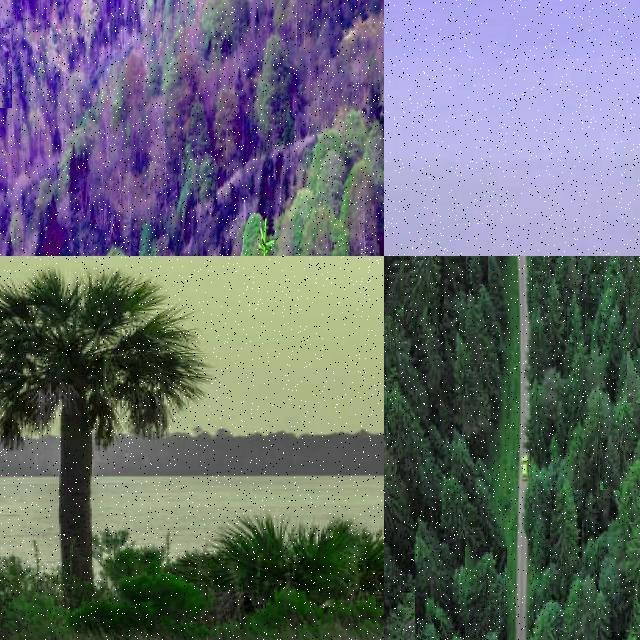tree: (0, 256, 216, 608), (0, 0, 80, 256), (434, 475, 498, 559), (255, 26, 293, 142), (465, 547, 507, 640), (180, 91, 214, 205), (550, 580, 610, 640), (452, 336, 488, 434), (412, 524, 452, 604), (404, 256, 444, 324), (550, 490, 582, 574), (579, 528, 621, 592), (214, 82, 242, 176), (418, 256, 458, 320), (384, 304, 410, 382), (384, 583, 415, 640), (446, 427, 474, 481), (384, 256, 404, 328), (384, 393, 400, 477), (418, 314, 440, 374), (478, 282, 498, 346), (404, 360, 428, 412), (384, 256, 404, 316), (544, 278, 564, 334), (626, 508, 640, 588), (530, 513, 550, 567), (600, 436, 620, 490), (588, 342, 608, 394), (427, 350, 448, 398), (0, 28, 12, 108), (384, 372, 398, 440), (567, 294, 585, 342), (628, 271, 640, 339), (384, 256, 398, 312), (384, 328, 396, 392), (384, 322, 396, 386), (584, 493, 600, 541), (620, 256, 640, 292), (627, 348, 640, 403), (141, 218, 159, 256), (602, 256, 626, 284), (486, 256, 502, 296), (556, 256, 576, 288), (466, 256, 488, 284), (388, 256, 410, 284), (473, 256, 489, 292), (601, 256, 619, 288), (384, 296, 394, 348), (578, 256, 606, 274), (99, 240, 129, 256), (530, 256, 546, 286), (611, 256, 627, 284), (418, 620, 440, 640), (400, 256, 424, 274), (548, 432, 560, 464), (472, 256, 486, 276), (384, 256, 392, 272)
